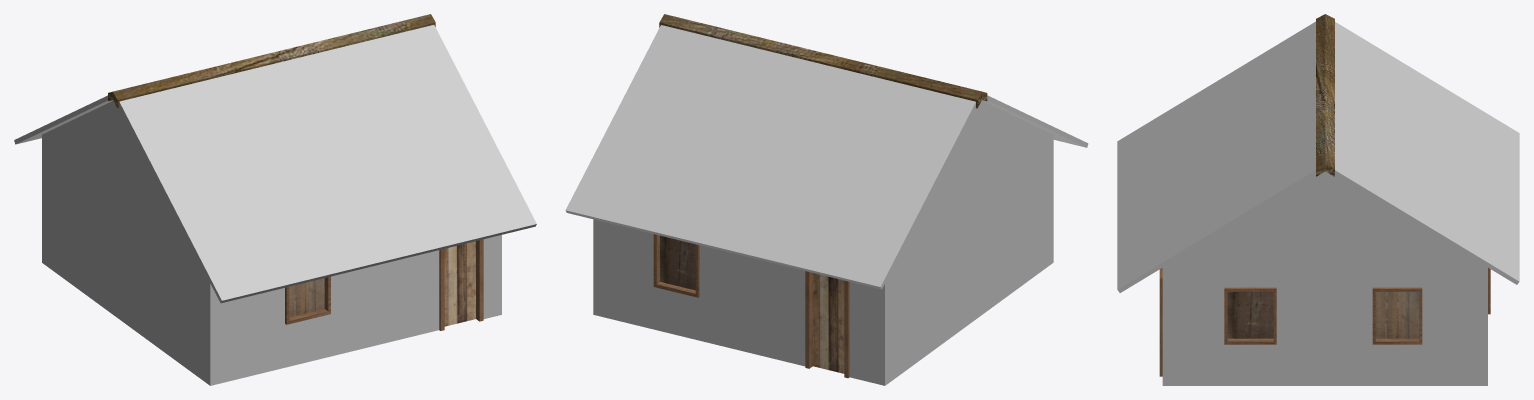
Rendered from 09_casa.fbx.
3 views of the same model, side by side, from view 1: azimuth 30°, elevation 25°; view 2: azimuth 150°, elevation 25°; view 3: azimuth 270°, elevation 25° (orthographic). The views are drawn at different scales.
Parts seen in each view (by area): view 1: telhado, 09_casa_LOD0; view 2: telhado, 09_casa_LOD0; view 3: telhado, 09_casa_LOD0.
Boxes of the visible parts, bbox=[...] form: telhado: bbox=[14, 25, 536, 303]; 09_casa_LOD0: bbox=[42, 14, 501, 385]; telhado: bbox=[565, 25, 1088, 289]; 09_casa_LOD0: bbox=[593, 14, 1053, 385]; telhado: bbox=[1117, 21, 1519, 292]; 09_casa_LOD0: bbox=[1159, 14, 1490, 385].
Size of what is drawn, in the model's own units: 655 by 464 by 741.
